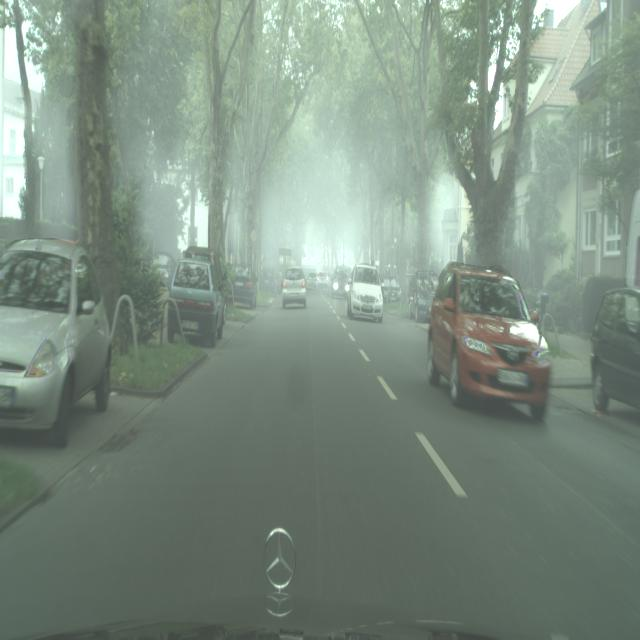truck: (0, 238, 112, 448), (426, 263, 552, 423), (589, 285, 640, 415), (168, 252, 226, 348), (346, 263, 383, 322), (408, 277, 437, 322), (232, 266, 258, 310), (282, 268, 307, 309), (150, 253, 175, 287), (330, 266, 353, 299), (259, 268, 280, 294), (381, 278, 402, 303), (316, 271, 331, 291)
